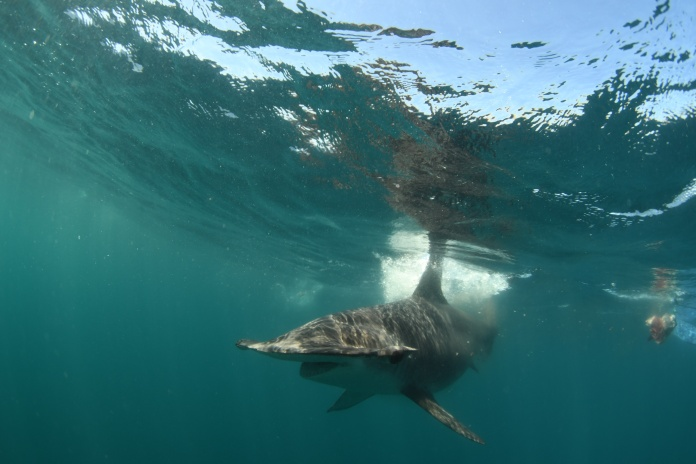Hammer: (227, 219, 522, 464)
